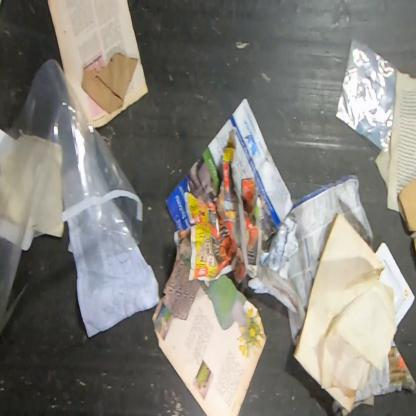cardboard: (396, 170, 415, 259)
soft_plastic: (0, 58, 144, 332), (335, 35, 398, 154)
